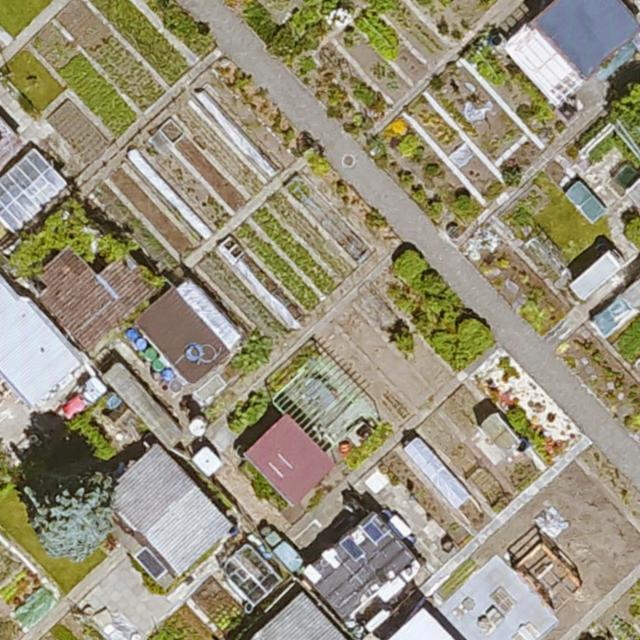tree: (30, 475, 118, 558), (606, 72, 640, 125), (625, 216, 640, 245)
